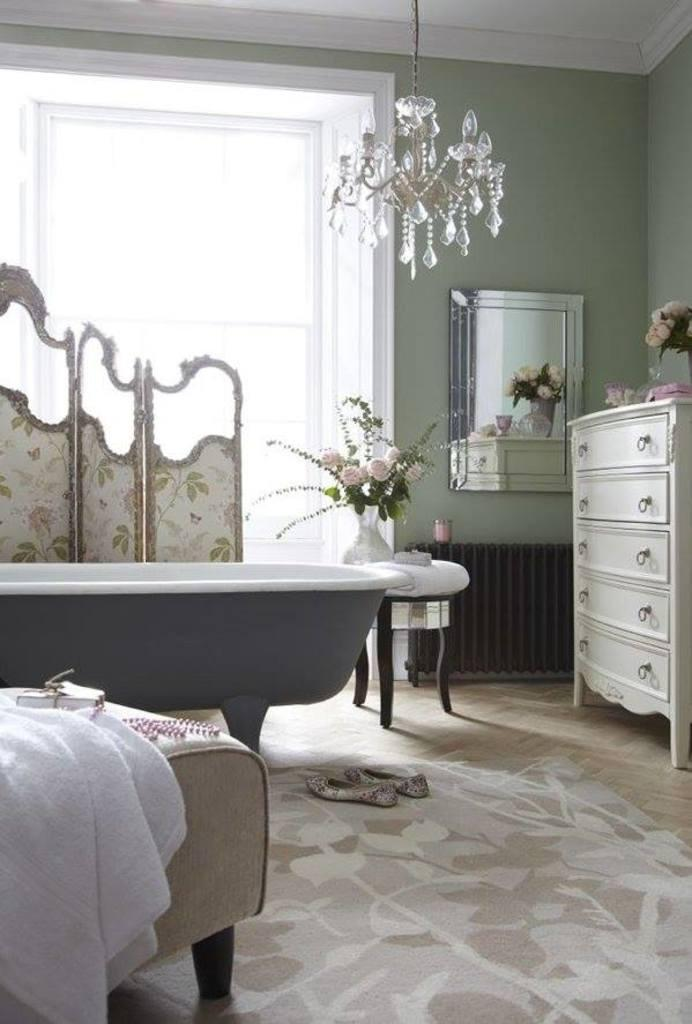cabinet_door: (575, 570, 666, 628), (578, 633, 670, 690), (578, 524, 668, 574), (579, 482, 666, 518), (580, 444, 665, 470)
handle: (636, 589, 654, 633), (636, 428, 654, 454), (576, 491, 592, 519), (640, 494, 654, 522), (636, 544, 651, 570), (576, 534, 590, 558), (636, 661, 650, 684), (578, 441, 590, 462), (580, 638, 590, 662), (581, 586, 589, 613)
